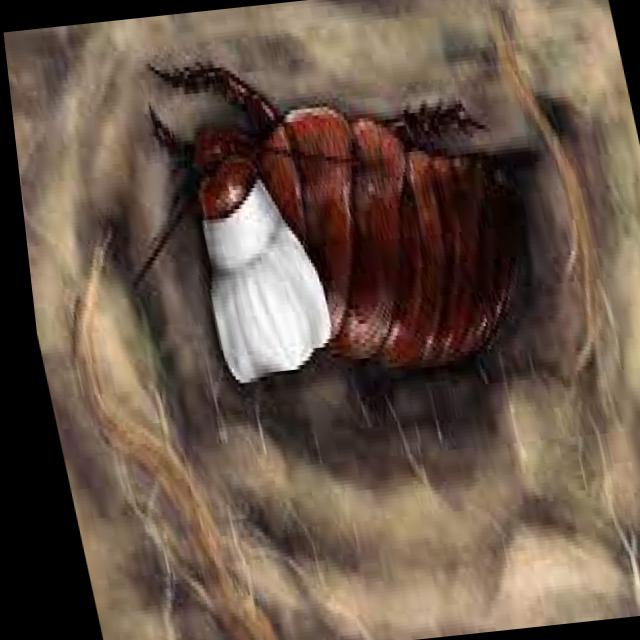Cockroach: (61, 12, 571, 440)
